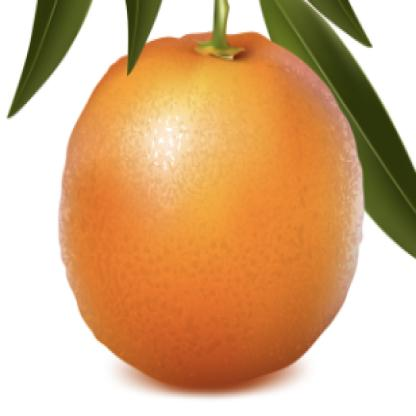fresh: (55, 31, 363, 390)
